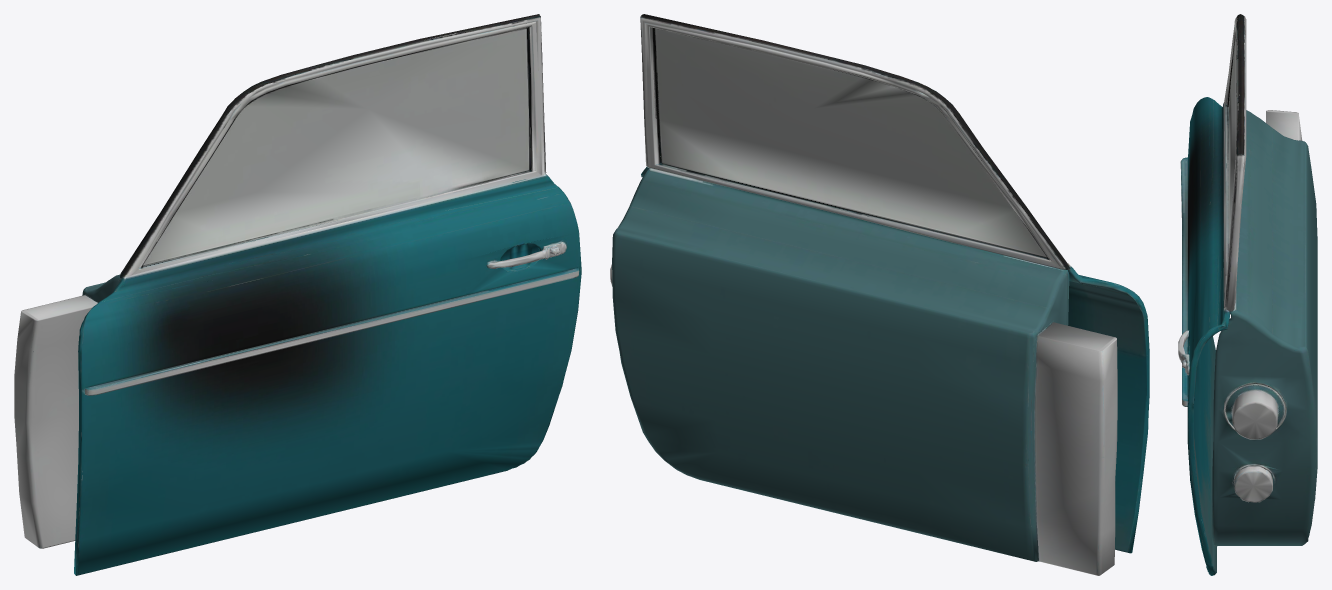
File: optimized_glb.glb
3 renders of one model, left to right at view 1: azimuth 30°, elevation 25°; view 2: azimuth 150°, elevation 25°; view 3: azimuth 270°, elevation 25°, orthographic.
Parts seen in each view (by area): view 1: left front door; view 2: left front door; view 3: left front door.
Part boxes in pixels (<box>): left front door: <box>14,14,581,575</box>; left front door: <box>610,14,1149,575</box>; left front door: <box>1178,14,1317,575</box>.
Bounding box in the file's own units: 0.998 × 0.8184 × 0.2324.
Materials: 1 (1 with a texture image).
